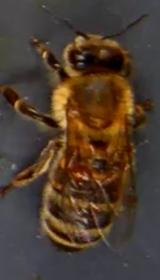varroa_mite: (64, 156, 94, 187)
